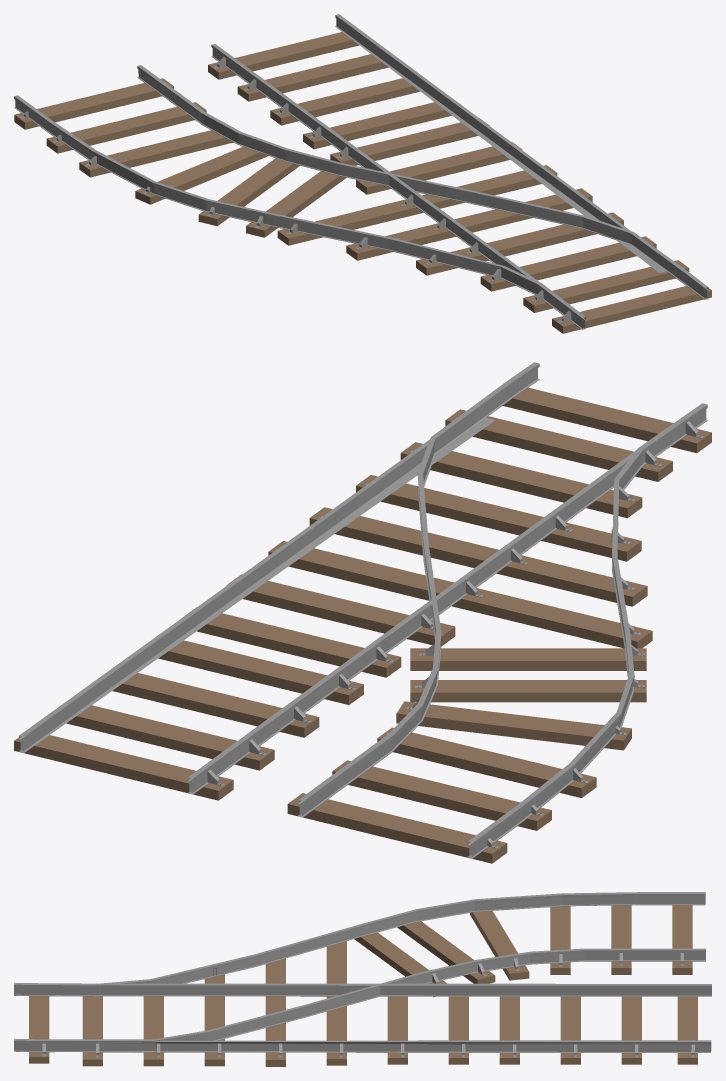
Rendered from Trilho divisoria.fbx.
3 views of the same model, one above another, from view 1: azimuth 30°, elevation 25°; view 2: azimuth 150°, elevation 25°; view 3: azimuth 270°, elevation 25° (orthographic). The views are drawn at different scales.
Visible parts, largest first — view 1: Cube.003; view 2: Cube.003; view 3: Cube.003.
Boxes of the visible parts, <box> form: Cube.003: <box>14,14,711,333</box>; Cube.003: <box>14,362,711,863</box>; Cube.003: <box>14,892,711,1066</box>.
Size of the model in its own units: 546 by 28.2 by 1006.
